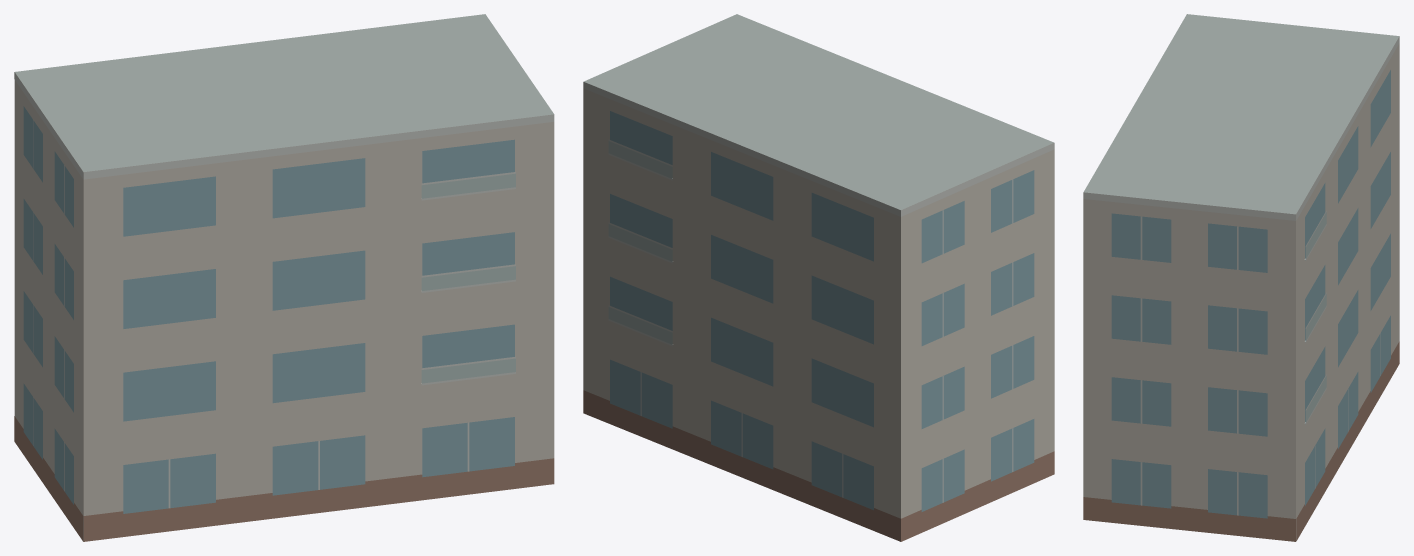
File: residential-06b0ed0c-1c32-446a-8d45-af046fbb94f5.glb
The picture shows the model from 3 angles, left to right: view 1: azimuth 30°, elevation 25°; view 2: azimuth 150°, elevation 25°; view 3: azimuth 270°, elevation 25°; orthographic projection. The views are drawn at different scales.
Visible parts, largest first — view 1: residential-06b0ed0c-1c32-446a-8d45-af046fbb94f5.tmp; view 2: residential-06b0ed0c-1c32-446a-8d45-af046fbb94f5.tmp; view 3: residential-06b0ed0c-1c32-446a-8d45-af046fbb94f5.tmp.
Part boxes in pixels (x1,y1,x2,y2): residential-06b0ed0c-1c32-446a-8d45-af046fbb94f5.tmp: (14,14,554,541); residential-06b0ed0c-1c32-446a-8d45-af046fbb94f5.tmp: (583,14,1054,541); residential-06b0ed0c-1c32-446a-8d45-af046fbb94f5.tmp: (1083,14,1399,541).
Size of the model in its own units: 16.02 by 12.2 by 10.69.
